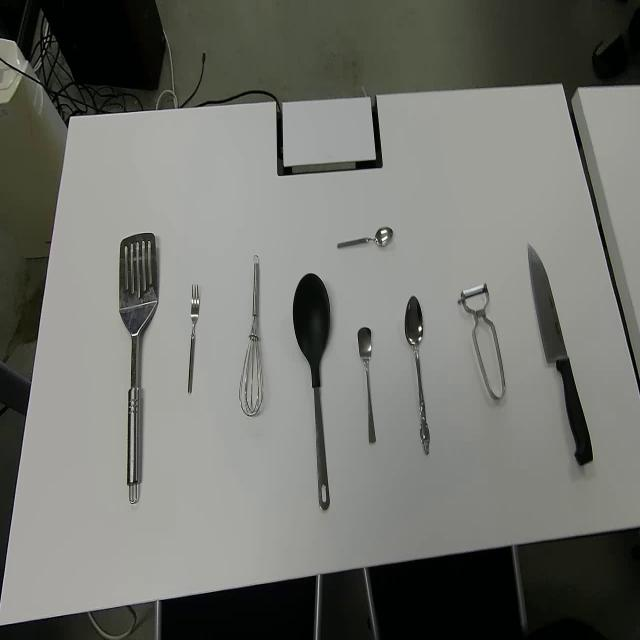Desert-Spoon: (404, 294, 430, 458)
Dinner-Fork: (187, 283, 201, 397)
Kitchen-Knife: (526, 241, 593, 469)
Peeler: (456, 280, 506, 402)
Serving-Spoon: (118, 231, 159, 505), (292, 270, 331, 512)
Tea-Spoon: (357, 325, 376, 445), (336, 223, 393, 253)
Whisk: (239, 254, 264, 418)
